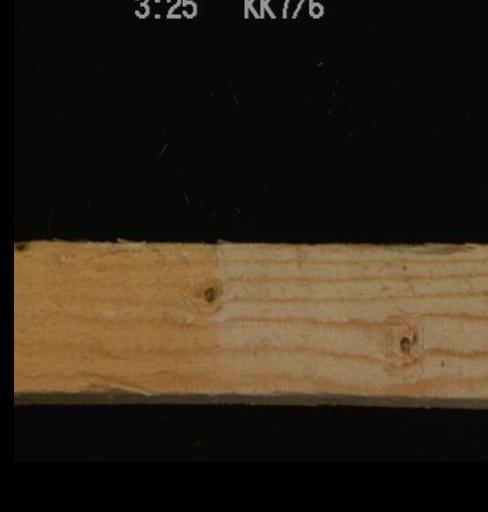edge_knot: (14, 238, 30, 256)
small_knot: (378, 310, 429, 373), (188, 273, 228, 316)
